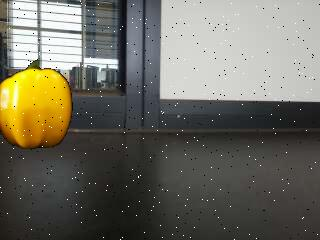Capsicum: (0, 61, 72, 150)
